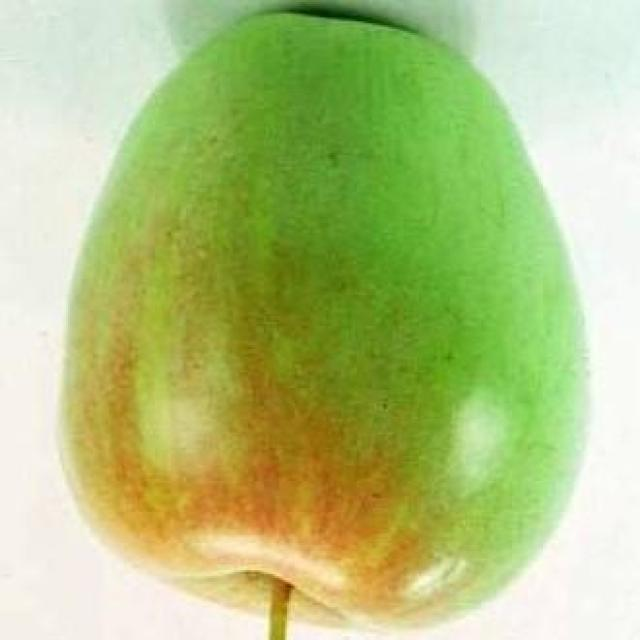Rotten Apple: (66, 10, 595, 634)
